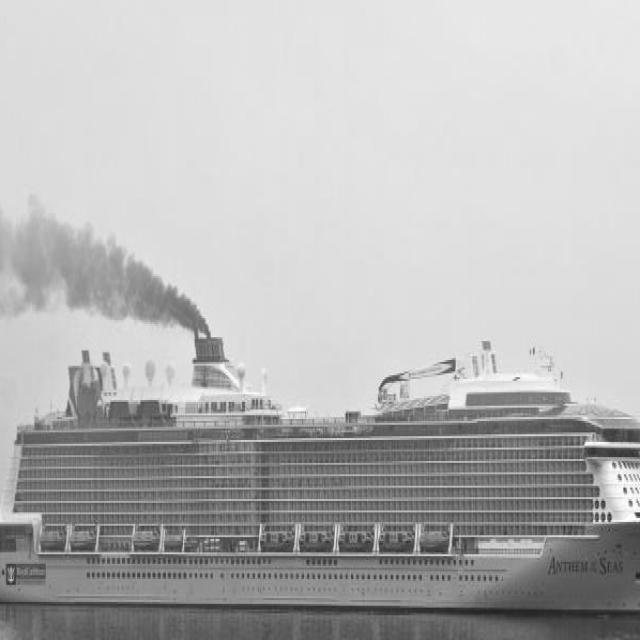cruises: (1, 323, 640, 633)
